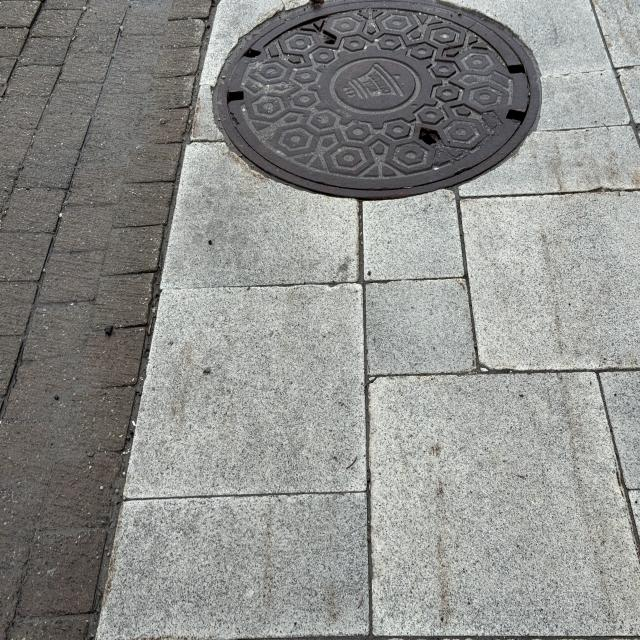Manhole: (213, 3, 547, 199)
